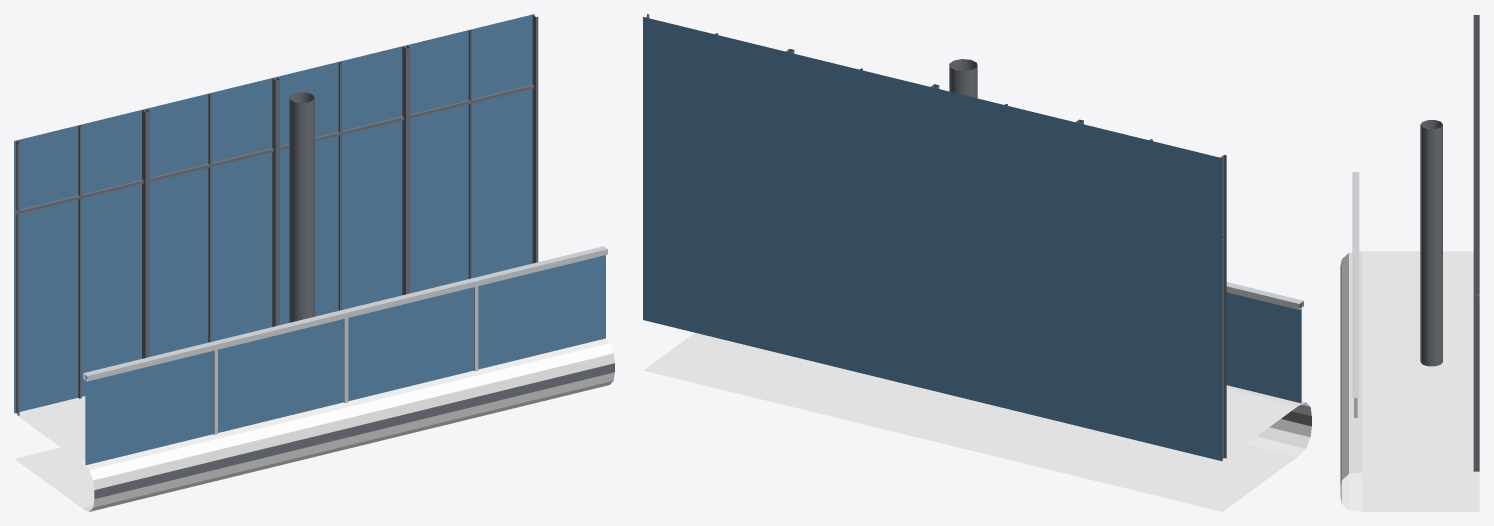
The model's file is mid-w1_close.fbx.
3 views of the same model, side by side, from view 1: azimuth 30°, elevation 25°; view 2: azimuth 150°, elevation 25°; view 3: azimuth 270°, elevation 25° (orthographic). The views are drawn at different scales.
Visible parts, largest first — view 1: a2012/800/mid-w1_close; view 2: a2012/800/mid-w1_close; view 3: a2012/800/mid-w1_close.
Boxes of the visible parts, x1=… form: a2012/800/mid-w1_close: x1=14, y1=14, x2=614, y2=511; a2012/800/mid-w1_close: x1=643, y1=14, x2=1311, y2=511; a2012/800/mid-w1_close: x1=1340, y1=15, x2=1479, y2=511.
Bounding box in the file's own units: 6 × 3.5 × 1.6.
